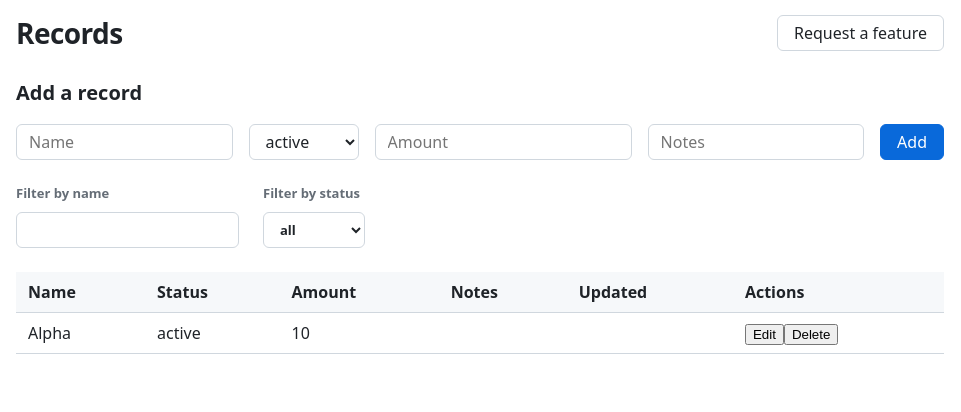
it: DAN-10 tester · create from the table view › appends the returned record WITHOUT re-fetching the list (useRef guard)
This screenshot has width=961, height=412.
Expected: the text "Alpha" is shown, left=16, top=312, right=145, bottom=353
Type "Gamma" into the field named "New name" at (124, 142), box left=16, top=124, right=232, bottom=160
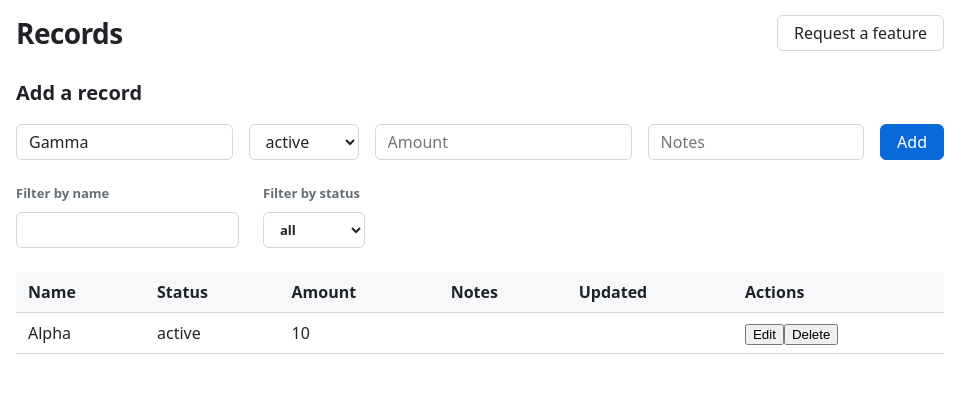
Type "42" into the number field named "New amount" at (503, 142), box left=374, top=124, right=632, bottom=160
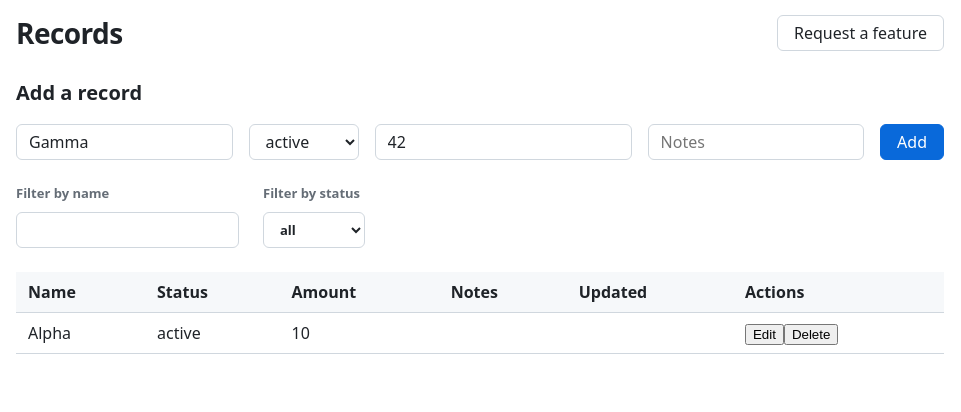
Click the button "Add" at (912, 142), box left=880, top=124, right=944, bottom=160
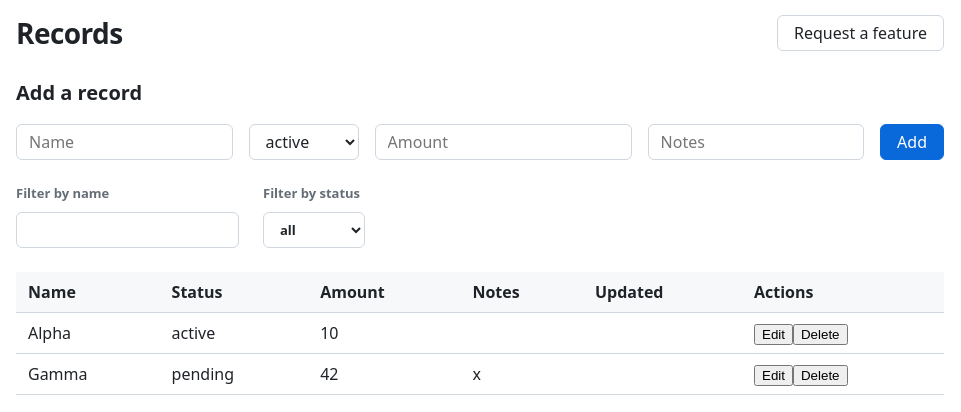
Expected: the text "Alpha" is shown, left=16, top=312, right=160, bottom=353
Result: the text "Gamma" is shown at left=16, top=353, right=160, bottom=394
